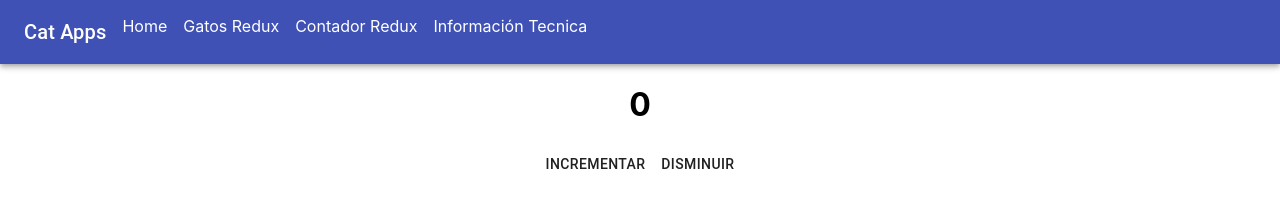
Test case: Counter component › should decrement by 1 if you click the Decrmeent button, counter must be -1
What coordinates should you click on to do the following:
click the button "Disminuir"
I would click on:
 (698, 165)
Its box is [653, 146, 742, 183].
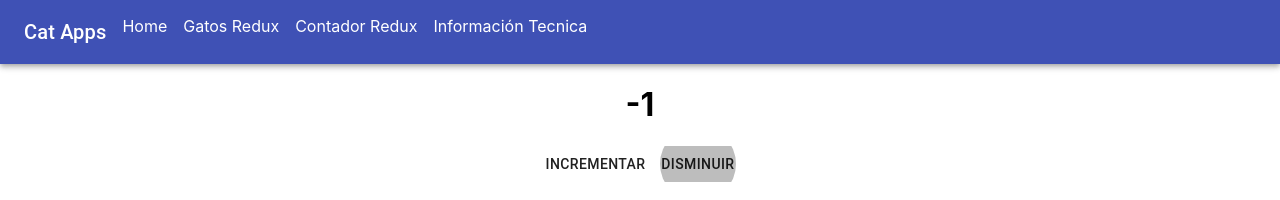
Check: the heading with test id "counterDisplay" reads "-1", box [626, 85, 655, 124]
